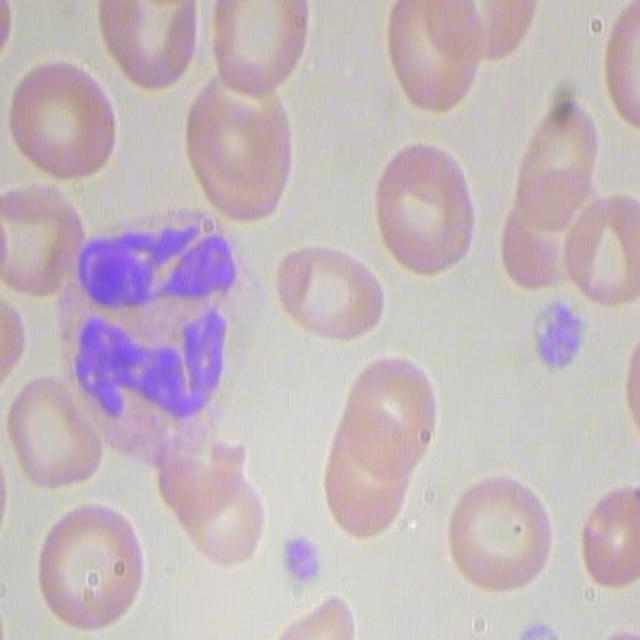RBC: (322, 348, 434, 536), (182, 67, 292, 230), (372, 133, 484, 283), (34, 500, 144, 634), (7, 62, 118, 190), (445, 469, 557, 594), (275, 241, 387, 348), (162, 457, 267, 570), (381, 2, 481, 115), (7, 376, 100, 495), (0, 172, 80, 303), (206, 1, 312, 93), (558, 196, 640, 309), (94, 0, 199, 87), (575, 486, 640, 590), (604, 0, 640, 143)
WBC: (65, 202, 250, 438)
platelets: (539, 306, 582, 384), (277, 532, 323, 587)
